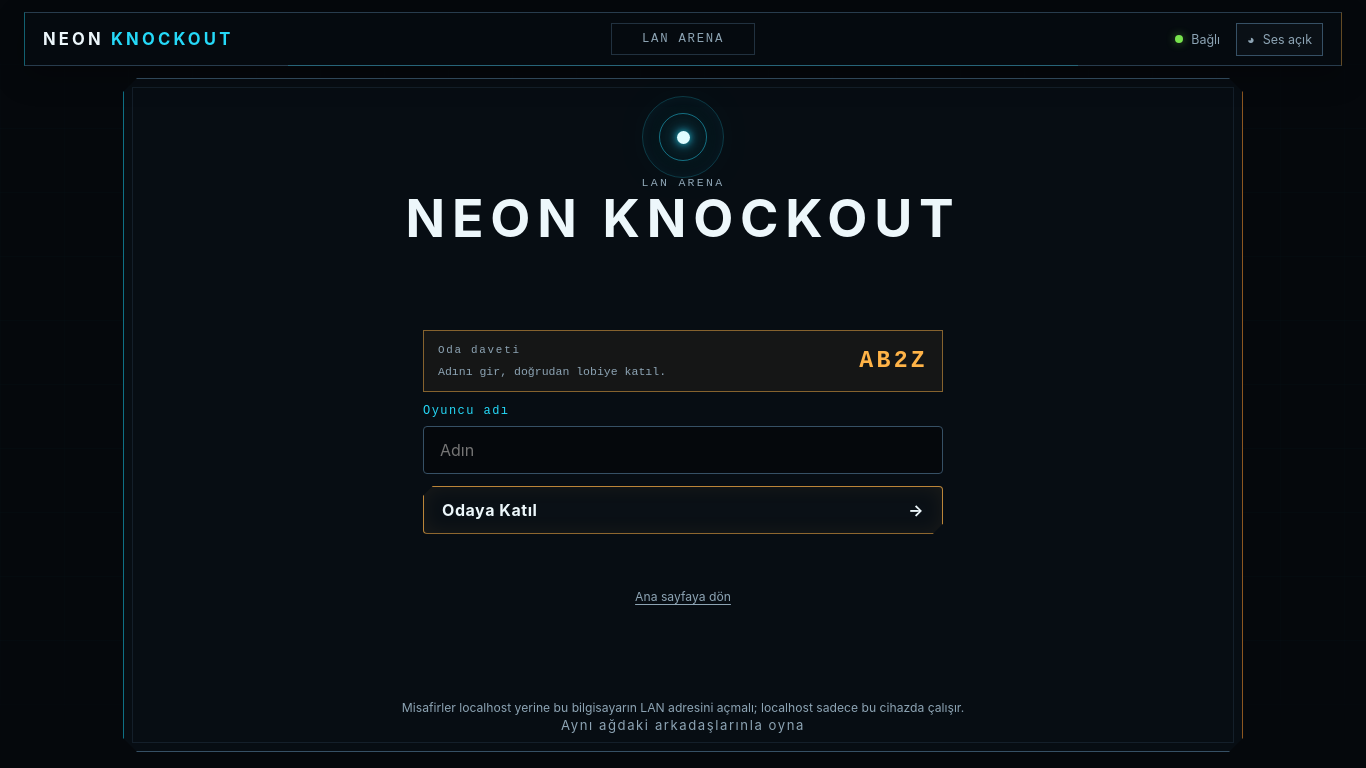
Test: App › turns a room deep link into a name-only invitation and can return to the home route
The width and height of the screenshot is (1366, 768).
Expected: the text "AB2Z" is shown, [859, 348, 928, 374]
Expected: the field labelled "Oda kodu" is not shown
Click the button "Ana sayfaya dön". click: x=683, y=597
box: [625, 580, 741, 614]
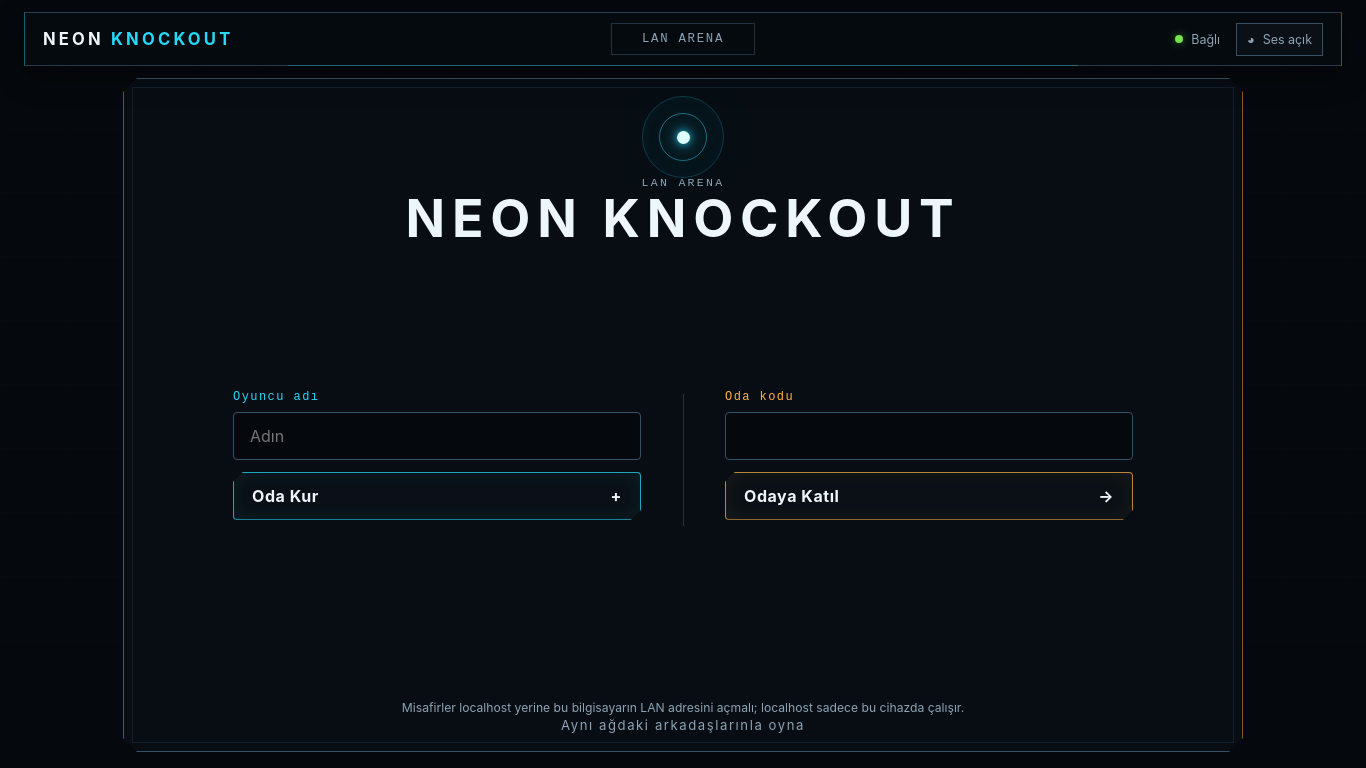
Expected: the button "Oda Kur +" is shown, [233, 472, 641, 520]
